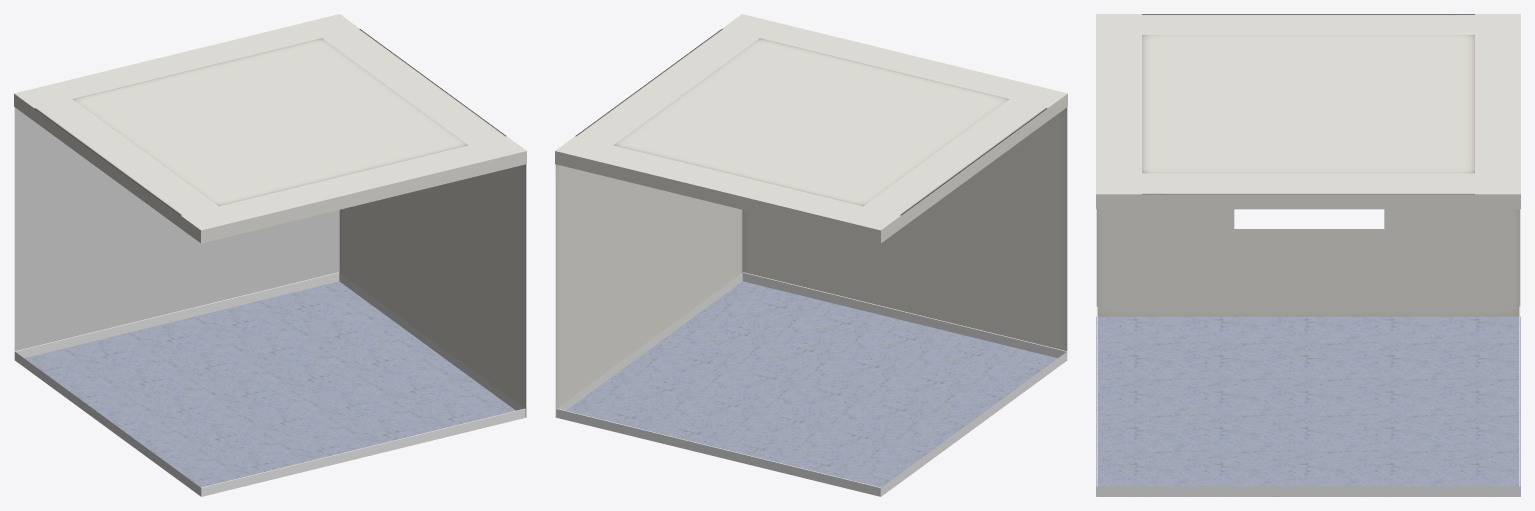
The model's file is Roop_physics_2.glb.
The picture shows the model from 3 angles, left to right: view 1: azimuth 30°, elevation 25°; view 2: azimuth 150°, elevation 25°; view 3: azimuth 270°, elevation 25°; orthographic projection. The views are drawn at different scales.
Parts seen in each view (by area): view 1: Cealing, Floor, Front_Wall, Right_Wall, Skrit; view 2: Cealing, Floor, Back_Wall, Right_Wall, Skrit; view 3: Cealing, Floor, Left_Wall, Skrit.
Boxes of the visible parts, x1,y1,x2,y2 form: Cealing: [14, 14, 526, 243]; Floor: [14, 281, 526, 496]; Front_Wall: [14, 107, 339, 350]; Right_Wall: [339, 164, 526, 416]; Skrit: [14, 272, 525, 496]; Cealing: [555, 14, 1067, 243]; Floor: [555, 281, 1067, 496]; Back_Wall: [742, 107, 1067, 350]; Right_Wall: [555, 164, 742, 416]; Skrit: [556, 272, 1067, 496]; Cealing: [1096, 14, 1520, 209]; Floor: [1096, 316, 1520, 496]; Left_Wall: [1096, 209, 1520, 316]; Skrit: [1096, 306, 1520, 496].
Bounding box in the file's own units: 3.9 × 3.05 × 3.88.
5 materials, 3 textured.
